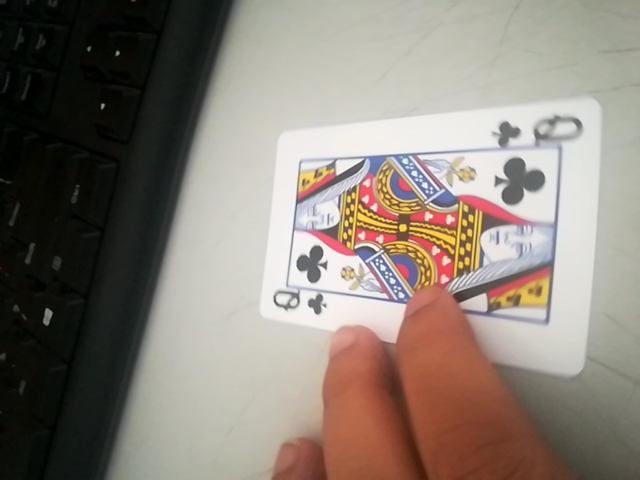mh q: (257, 99, 609, 368)
